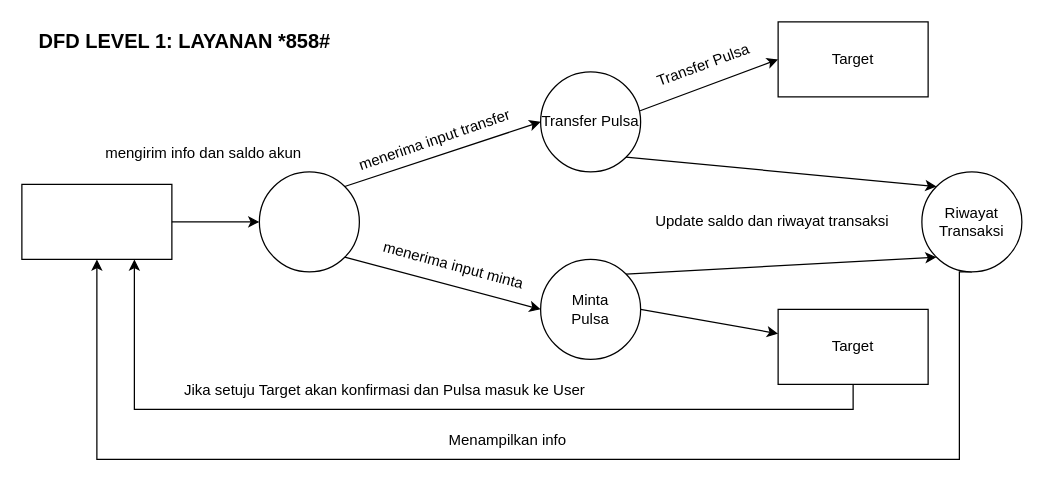
Some shapes in this 1044 by 491 pixel diagram are drawn without their labels. The shapes that lost their labels are listed below. From the top down, each one's box as (x1, y1, x2, y2) in pixels, then its label:
(21, 183, 172, 259): User
(258, 171, 359, 272): Informasi Akun
